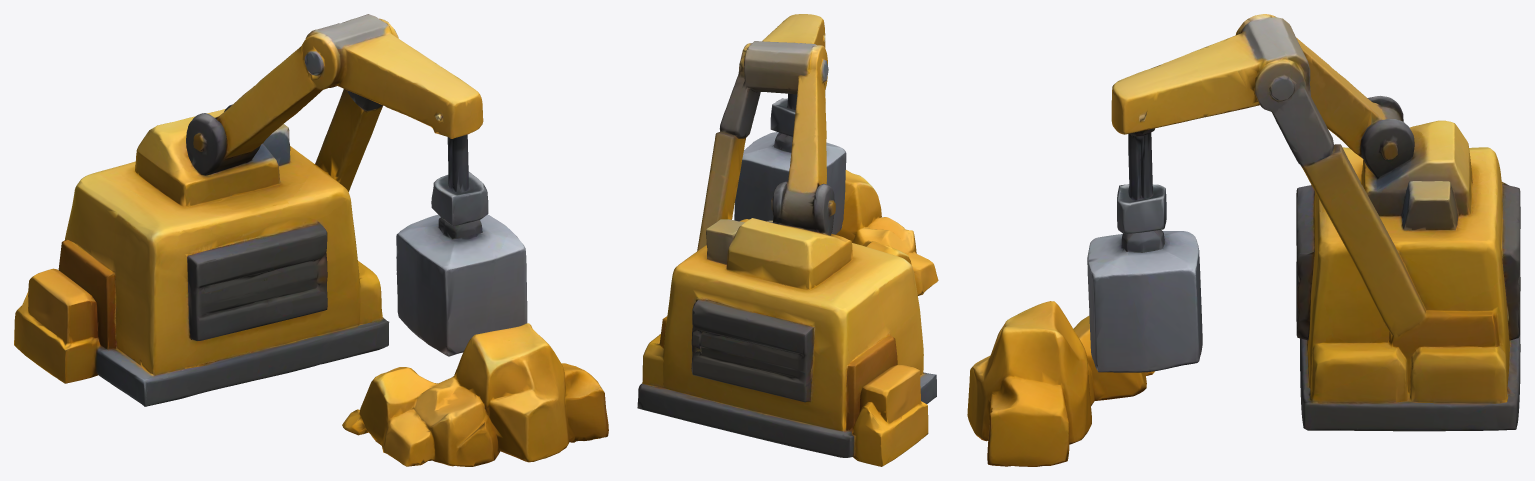
File: 3D-goldenextractor.glb
The picture shows the model from 3 angles, left to right: view 1: azimuth 30°, elevation 25°; view 2: azimuth 150°, elevation 25°; view 3: azimuth 270°, elevation 25°; orthographic projection. The views are drawn at different scales.
Visible parts, largest first — view 1: tripo_node_2d676122-b7b8-4e5f-bc3a-5cf81c17be32; view 2: tripo_node_2d676122-b7b8-4e5f-bc3a-5cf81c17be32; view 3: tripo_node_2d676122-b7b8-4e5f-bc3a-5cf81c17be32.
Boxes of the visible parts, x1,y1,x2,y2 form: tripo_node_2d676122-b7b8-4e5f-bc3a-5cf81c17be32: (14, 14, 608, 466); tripo_node_2d676122-b7b8-4e5f-bc3a-5cf81c17be32: (637, 14, 938, 466); tripo_node_2d676122-b7b8-4e5f-bc3a-5cf81c17be32: (967, 14, 1520, 466).
Bounding box in the file's own units: 0.7739 × 0.7277 × 0.9796.
Materials: 1 (1 with a texture image).
